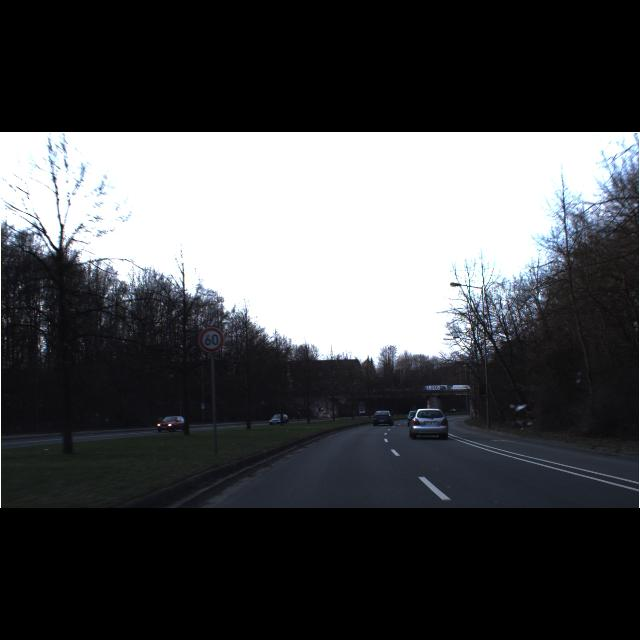prohibitory: (198, 327, 224, 353)
